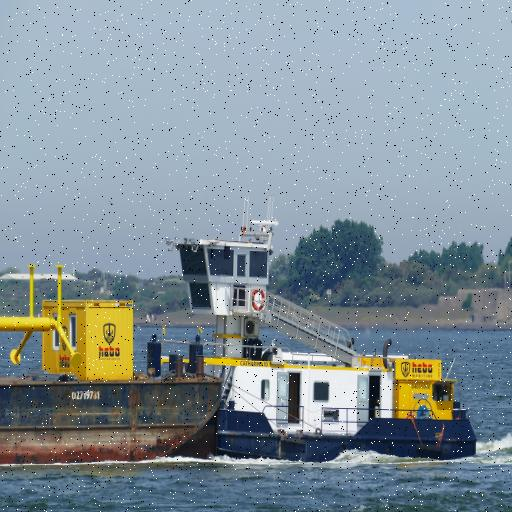tugboat: (144, 217, 482, 471)
